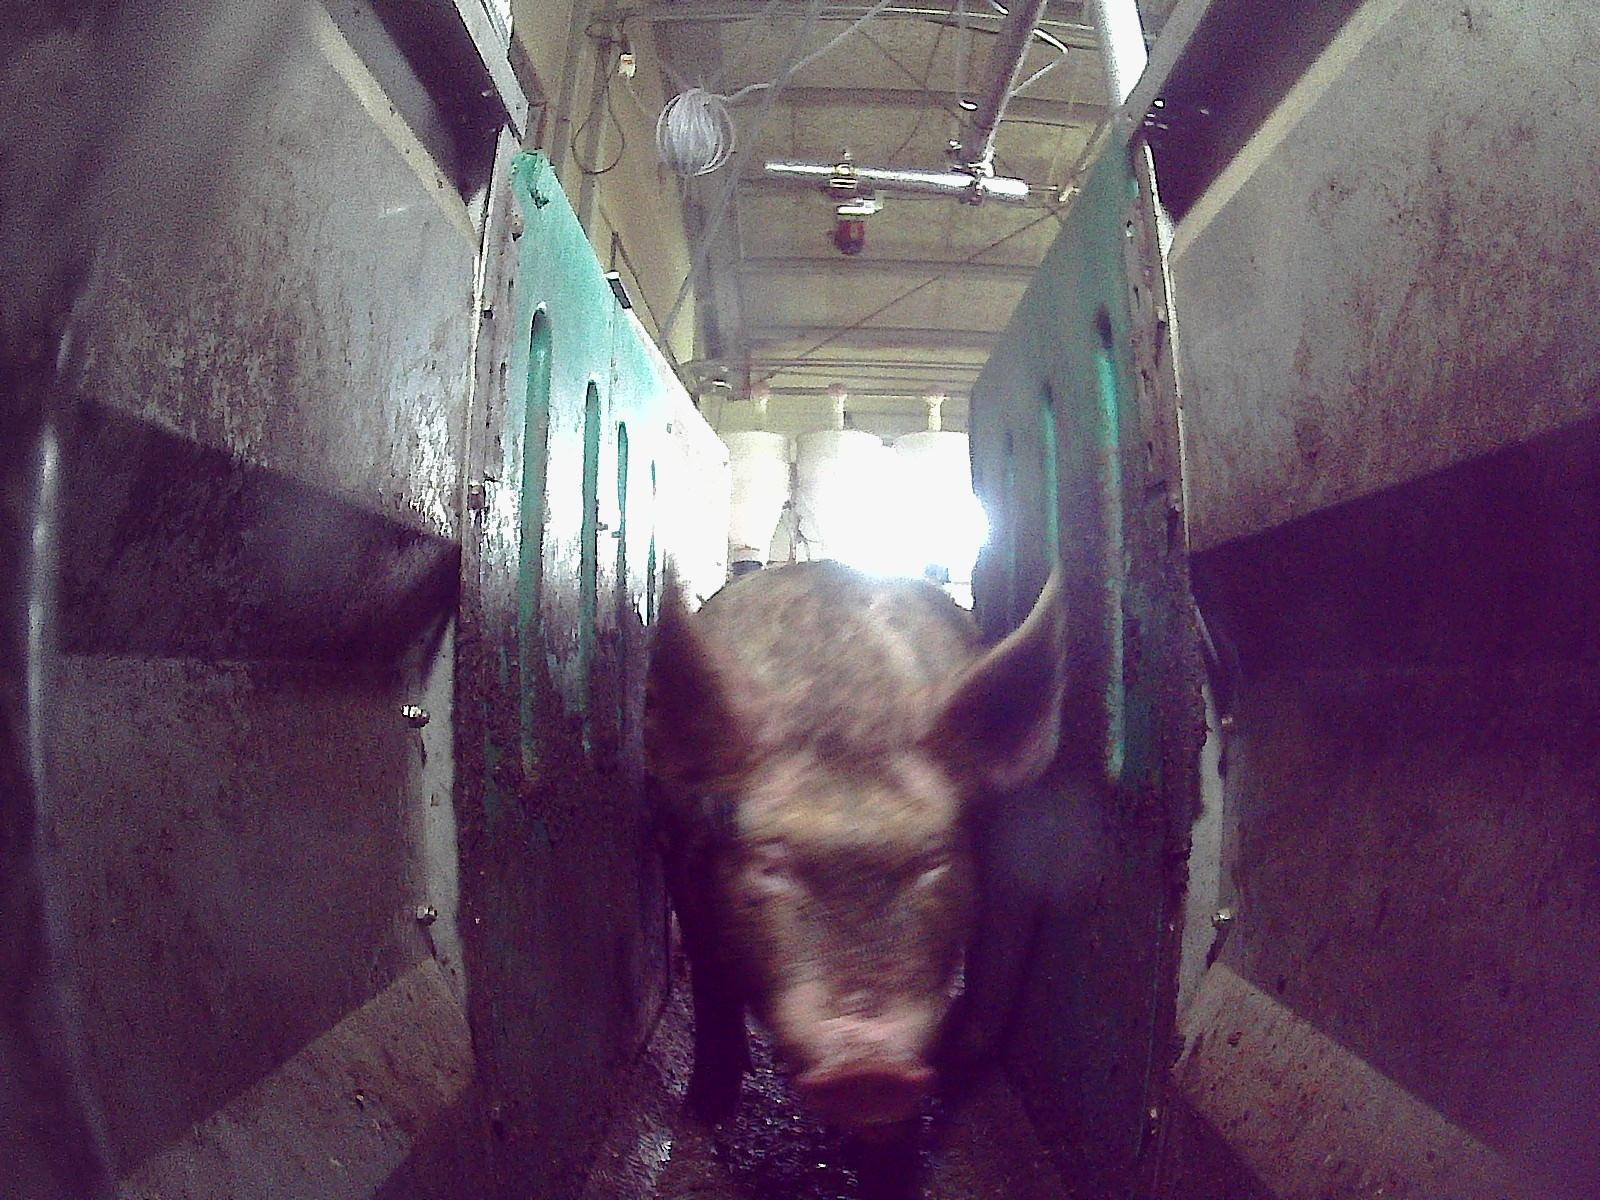Face: (726, 717, 970, 1125)
